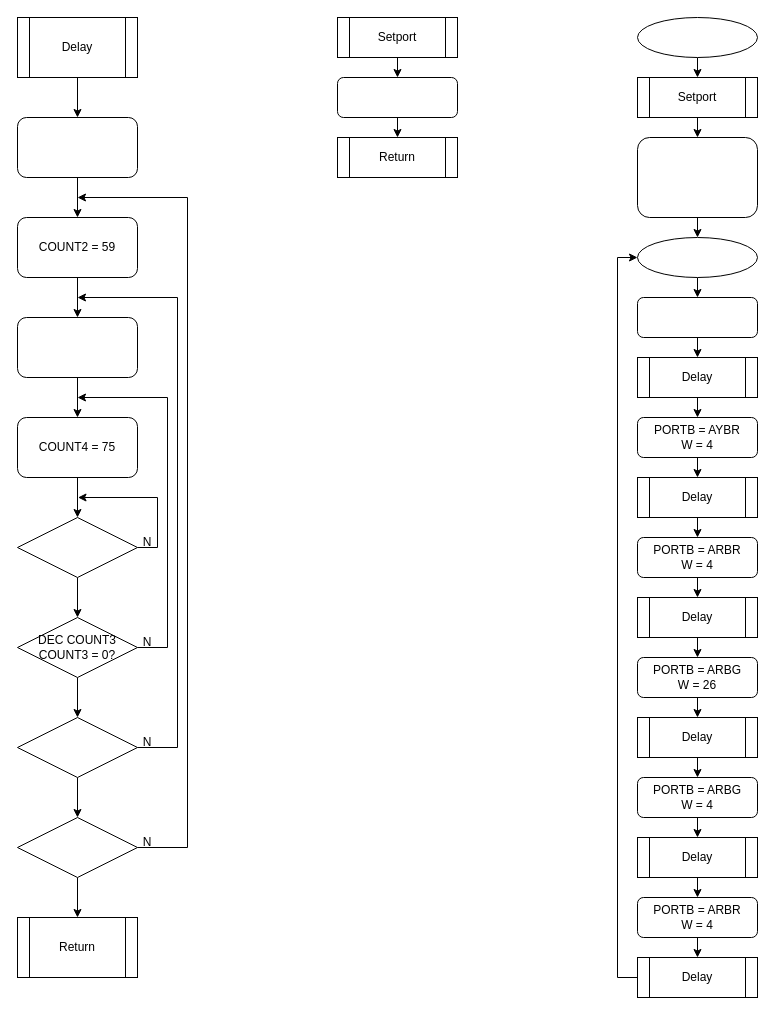
Some shapes in this 775 by 1015 pixel diagram are drawn without their labels. Here are the shapes that lost their labels. From the top down, the centre of each, then its label:
At point 697,37: "Setup".
At point 397,97: "TRISB = 0x00".
At point 77,147: "COUNT1 = W".
At point 697,177: "ARBR = 0x09 AGBR = 0x21 AYBR = 0x11 ARBG = 0x0C ARBY = 0x0A".
At point 697,257: "Main".
At point 697,317: "PORTB = AGBR W = 56".
At point 77,347: "COUNT3 = 74".
At point 77,547: "DEC COUNT4 COUNT4 = 0?".
At point 77,747: "DEC COUNT2 COUNT2 = 0?".
At point 77,847: "DEC COUNT1 COUNT1 = 0?".
